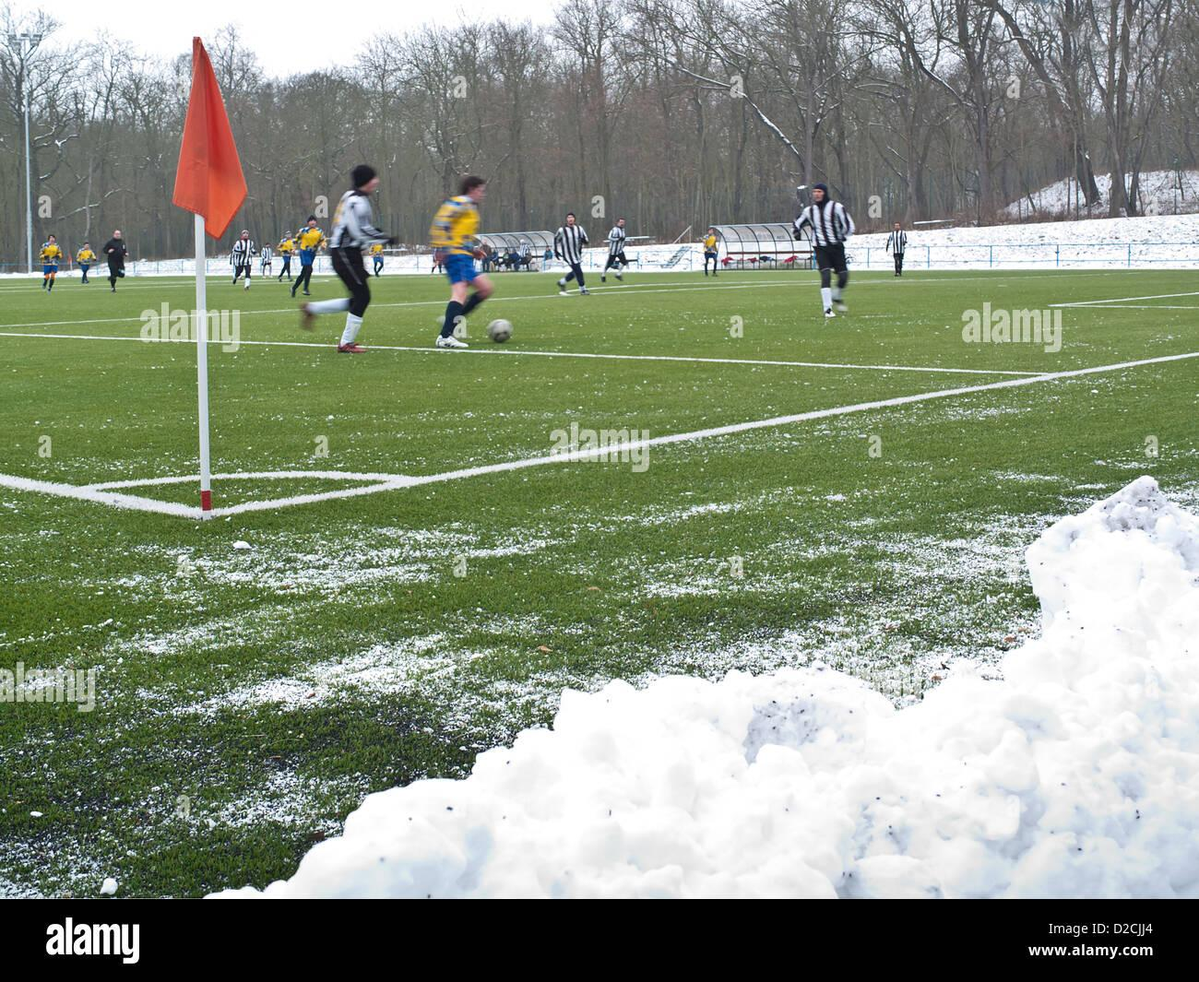ballon_football: (487, 318, 513, 344)
